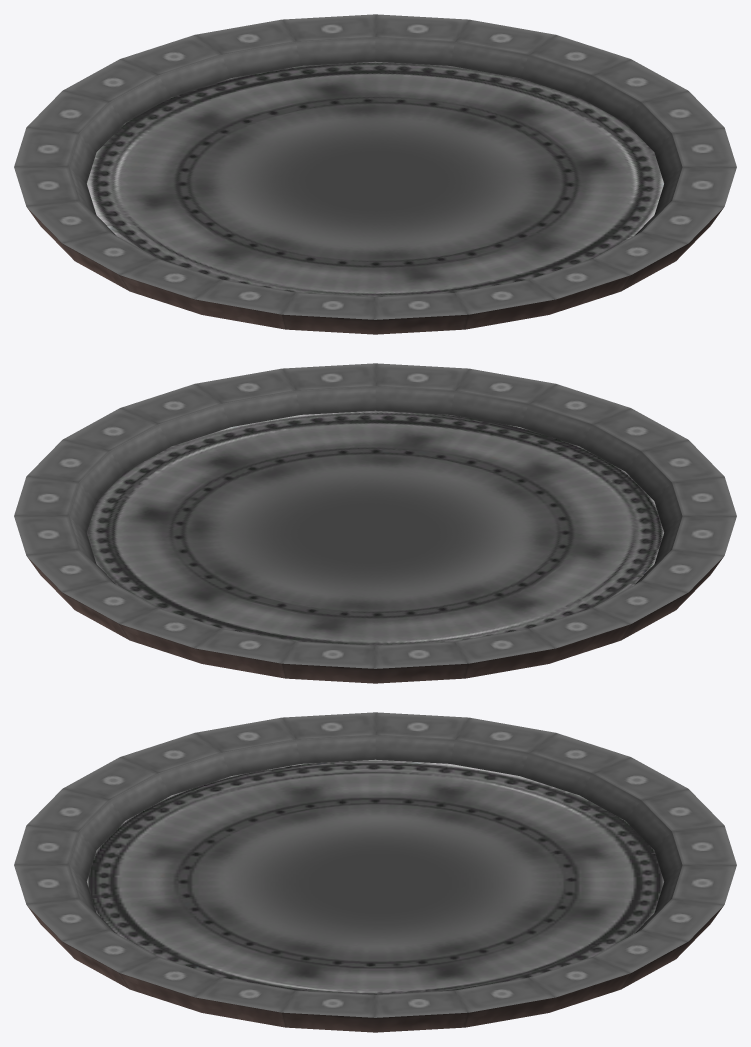
The model's file is Apollo_Block2_Heatshield.dae.
The picture shows the model from 3 angles, top to bottom: view 1: azimuth 30°, elevation 25°; view 2: azimuth 150°, elevation 25°; view 3: azimuth 270°, elevation 25°; orthographic projection.
Parts seen in each view (by area): view 1: polySurface40, polySurface39; view 2: polySurface40, polySurface39; view 3: polySurface40, polySurface39.
Part boxes in pixels (<box>): polySurface40: <box>87,61,663,296</box>; polySurface39: <box>14,14,736,334</box>; polySurface40: <box>87,410,663,645</box>; polySurface39: <box>14,363,736,683</box>; polySurface40: <box>87,759,663,994</box>; polySurface39: <box>14,712,736,1032</box>.
Size of the model in its own units: 2.5 by 0.3332 by 2.5.
